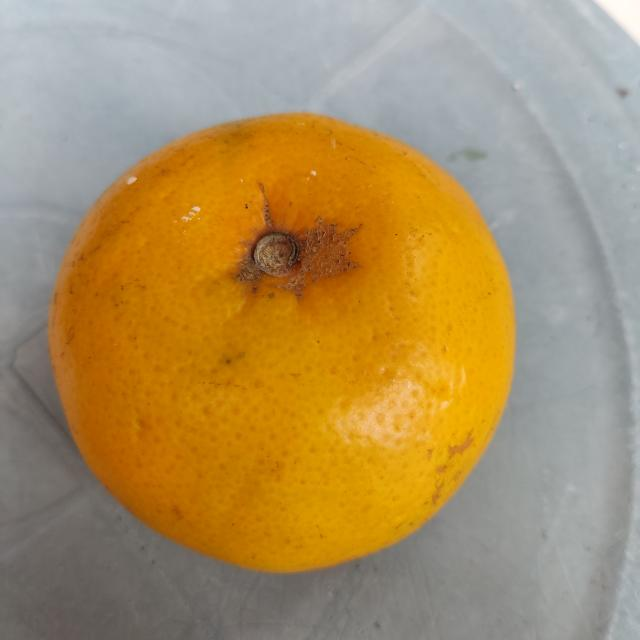orange: (45, 108, 515, 574)
